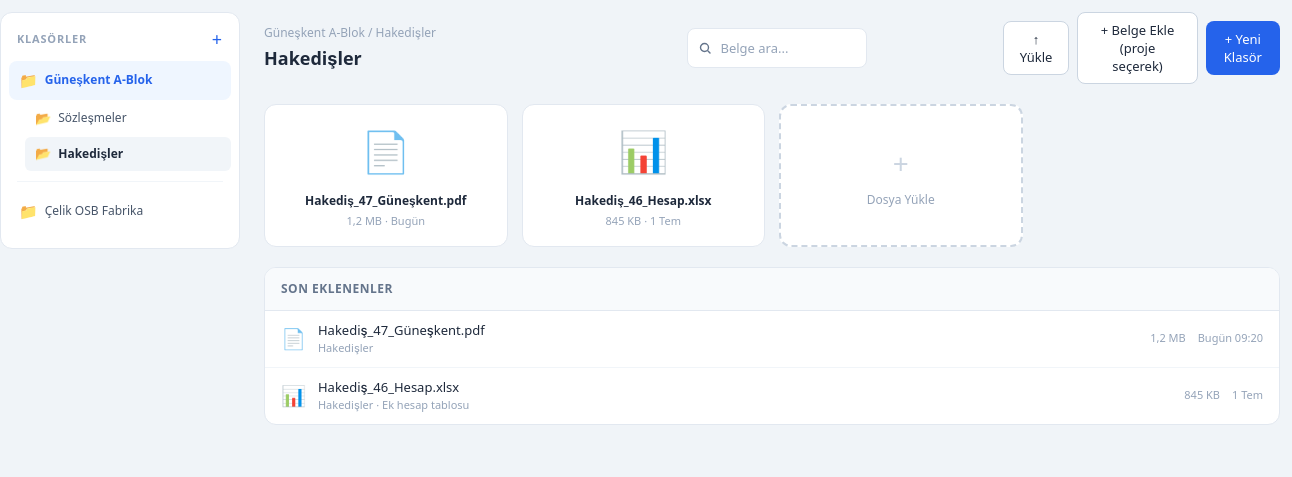
Test: ArchiveDocumentsView · kart ızgarası ve indirme (E12 128-162) › indirme hatası sessizce yutulmaz
Click the button "📄 Hakediş_47_Güneşkent.pdf 1,2 MB · Bugün": click(386, 175) [264,104,508,246]
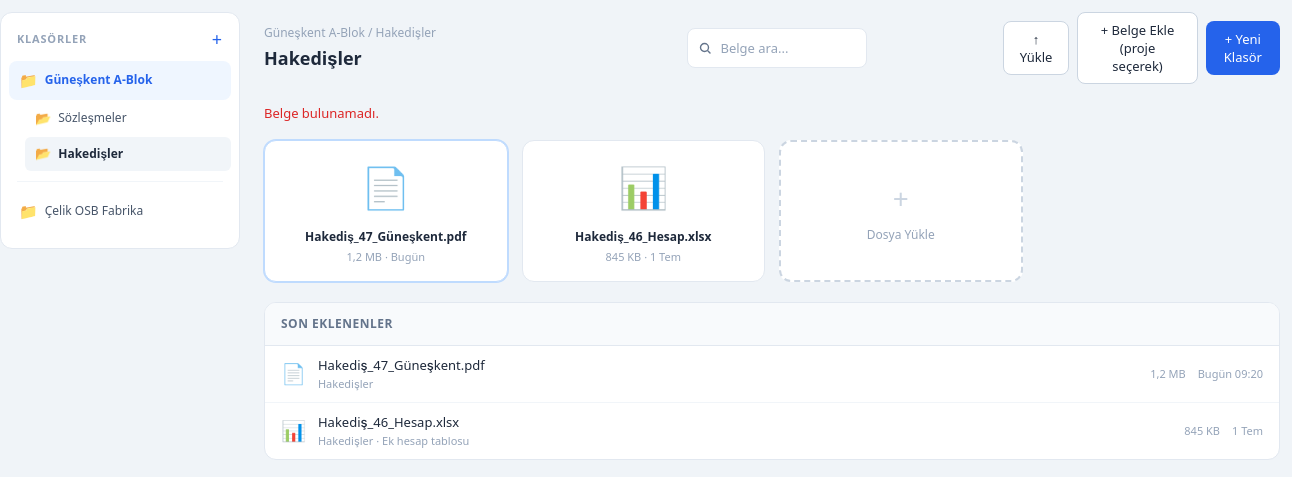
Expected: the text "Belge bulunamadı." is shown, [264,104,379,122]
